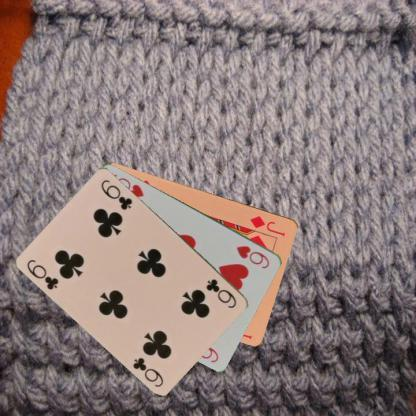6c: (25, 256, 60, 292), (203, 276, 238, 310)
6h: (234, 242, 271, 270)
Jd: (247, 213, 287, 238)
